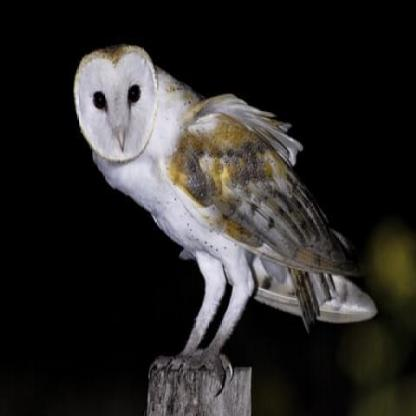owl: (43, 0, 411, 415)
